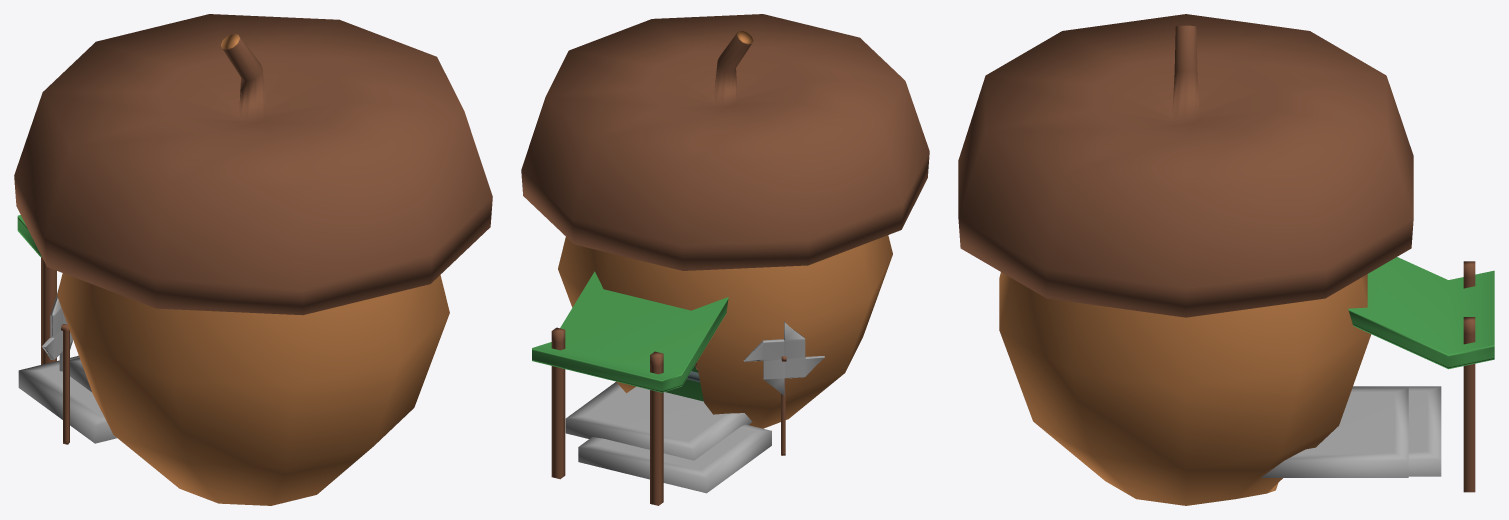
The model's file is Hus_1 export.fbx.
The picture shows the model from 3 angles, left to right: view 1: azimuth 30°, elevation 25°; view 2: azimuth 150°, elevation 25°; view 3: azimuth 270°, elevation 25°; orthographic projection. The views are drawn at different scales.
Visible parts, largest first — view 1: Hus, Tram_2, pCube5, Papirmolle, Papirpinne; view 2: Hus, Tak, Tram_1, Tram_2, Papirmolle, pCube4, pCube5, Doer; view 3: Hus, Tak, Tram_1, Tram_2, pCube4.
Boxes of the visible parts, left/top/right/bottom form: Hus: left=14, top=14, right=492, bottom=505; Tram_2: left=18, top=355, right=116, bottom=443; pCube5: left=41, top=257, right=56, bottom=364; Papirmolle: left=42, top=289, right=72, bottom=371; Papirpinne: left=61, top=324, right=69, bottom=444; Hus: left=521, top=14, right=929, bottom=428; Tak: left=532, top=271, right=728, bottom=392; Tram_1: left=565, top=382, right=752, bottom=460; Tram_2: left=578, top=424, right=771, bottom=493; Papirmolle: left=743, top=321, right=824, bottom=396; pCube4: left=551, top=327, right=565, bottom=479; pCube5: left=650, top=351, right=663, bottom=505; Doer: left=665, top=365, right=703, bottom=401; Hus: left=958, top=14, right=1413, bottom=505; Tak: left=1348, top=257, right=1494, bottom=369; Tram_1: left=1261, top=387, right=1408, bottom=477; Tram_2: left=1352, top=386, right=1441, bottom=476; pCube4: left=1463, top=317, right=1475, bottom=492.
Bounding box in the file's own units: 12.92 × 13.02 × 14.47.
